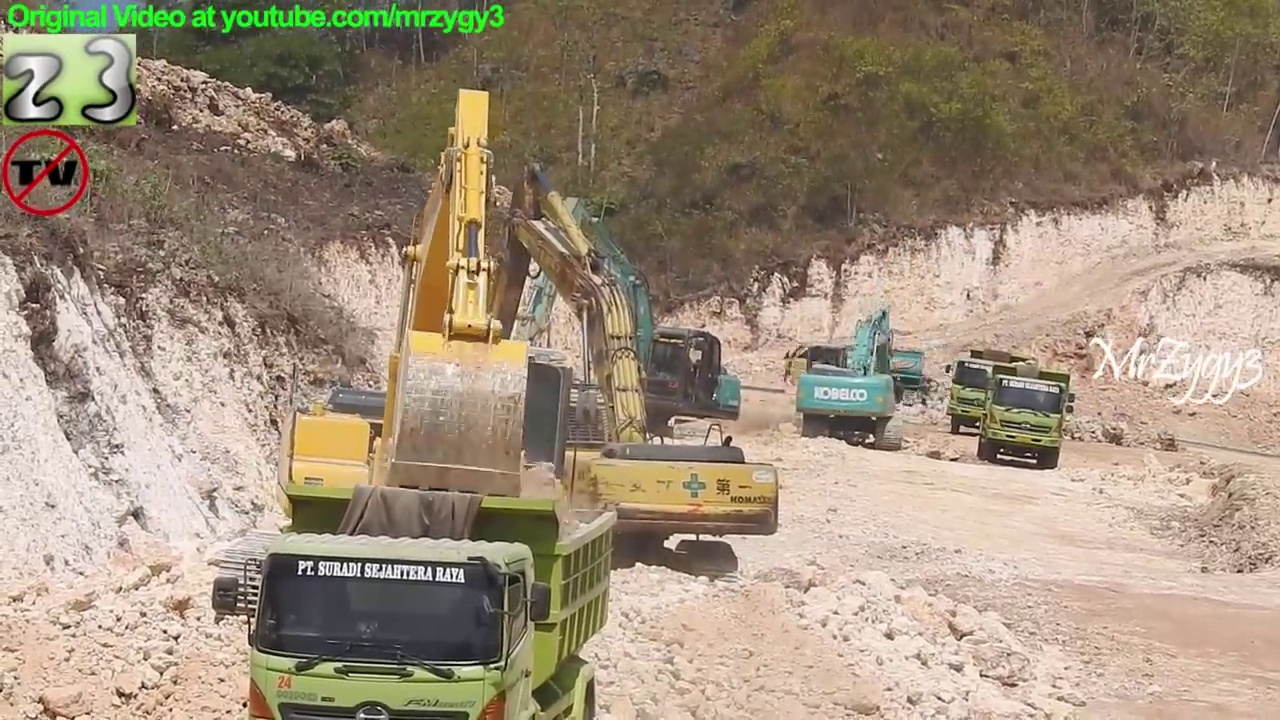excavator: (196, 82, 623, 643), (346, 155, 784, 602), (458, 186, 747, 457), (784, 298, 936, 457)
truck: (207, 476, 621, 720), (972, 361, 1081, 472), (944, 344, 1043, 440)
